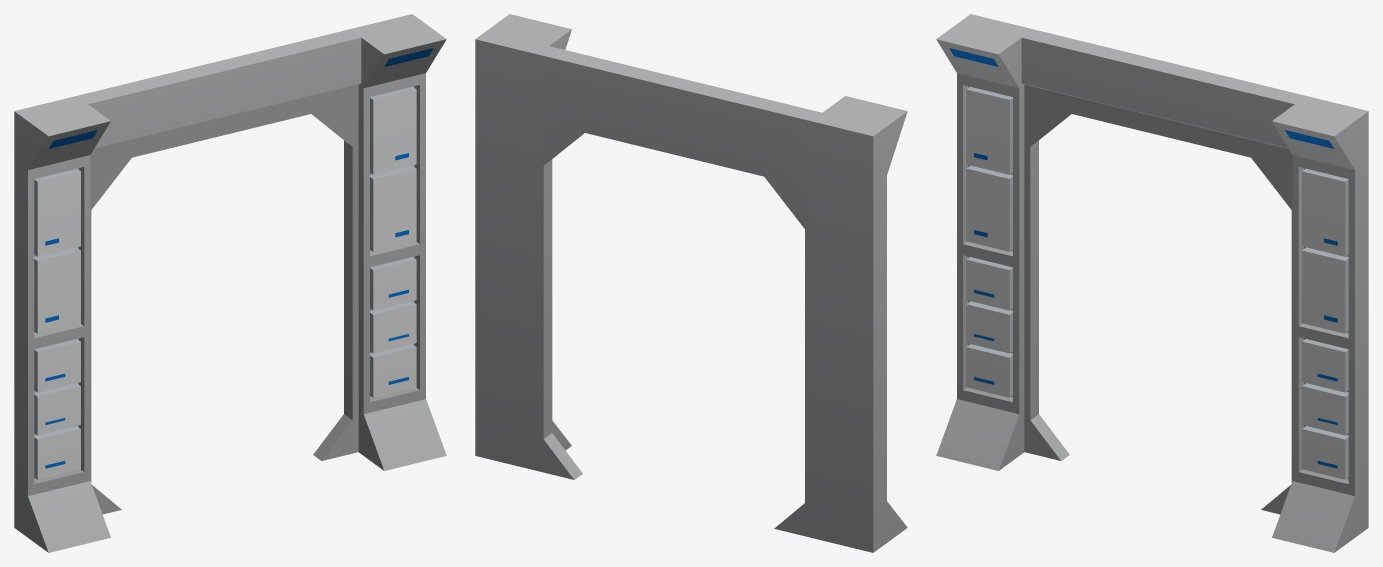
Rendered from Wall_type_A_052.fbx.
3 views of the same model, side by side, from view 1: azimuth 30°, elevation 25°; view 2: azimuth 150°, elevation 25°; view 3: azimuth 330°, elevation 25° (orthographic).
Visible parts, largest first — view 1: Wall_type_A_052; view 2: Wall_type_A_052; view 3: Wall_type_A_052.
Boxes of the visible parts, x1,y1,x2,y2 form: Wall_type_A_052: (14,14,446,552); Wall_type_A_052: (475,14,907,552); Wall_type_A_052: (936,14,1368,552).
Size of the model in its own units: 400 by 60 by 400.
